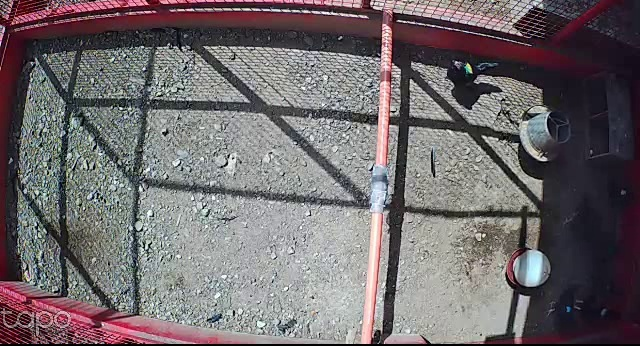Chicken: (442, 56, 498, 93)
Drinker: (506, 247, 552, 288)
Feeder: (521, 106, 572, 162)
Saddle_Color_Blue: (565, 306, 571, 313)
Saddle_Color_YellowGreen: (462, 62, 473, 75)
